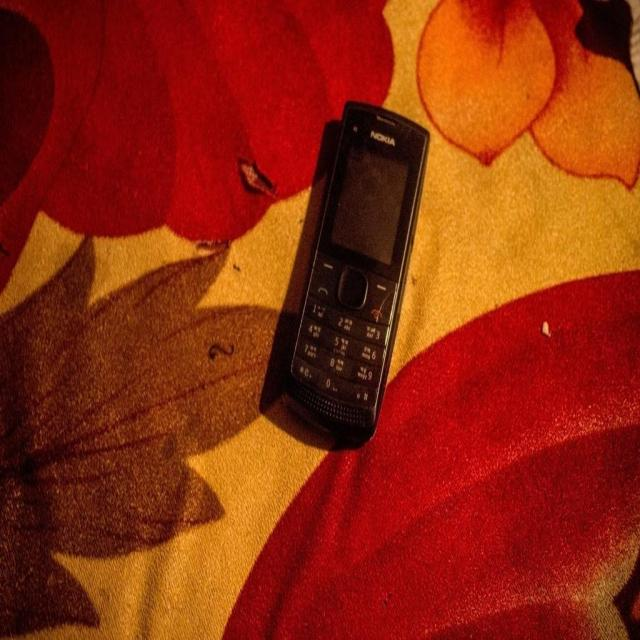Phone: (280, 93, 434, 457)
